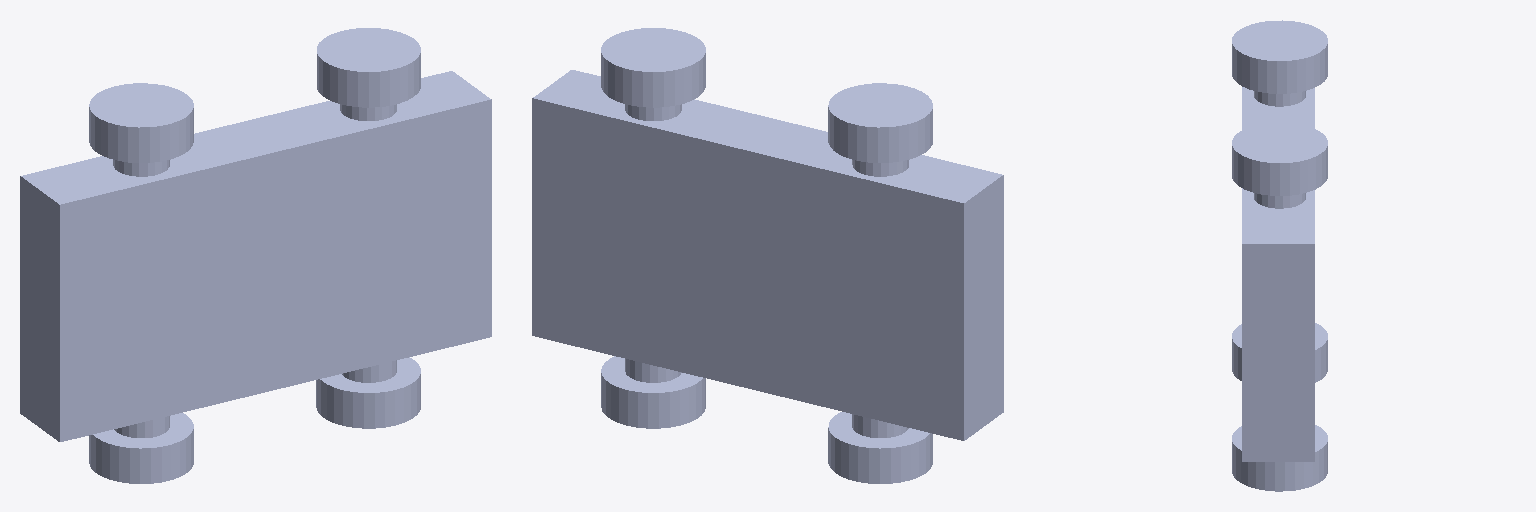
URDF robot description (mars_rover):
<?xml version="1.0" encoding="utf-8"?>
<!-- This URDF was automatically created by SolidWorks to URDF Exporter! Originally created by [author] ([email redacted]) 
     Commit Version: 1.6.0-1-g15f4949  Build Version: 1.6.7594.29634
     For more information, please see http://wiki.ros.org/sw_urdf_exporter -->
<robot
  name="mars_rover">
  <link
    name="base_link">
    <inertial>
      <origin
        xyz="0.294653236941306 0.609822590999722 0.767801018571493"
        rpy="0 0 0" />
      <mass
        value="64.9755690764331" />
      <inertia
        ixx="1.53438421488244"
        ixy="-4.44679015831895E-16"
        ixz="2.21495001419508E-16"
        iyy="5.30184354246095"
        iyz="-5.65363072363094E-17"
        izz="6.56210187060195" />
    </inertial>
    <visual>
      <origin
        xyz="0 0 0"
        rpy="0 0 0" />
      <geometry>
        <mesh
          filename="package://mars_rover/meshes/base_link.STL" />
      </geometry>
      <material
        name="">
        <color
          rgba="0.792156862745098 0.819607843137255 0.933333333333333 1" />
      </material>
    </visual>
    <collision>
      <origin
        xyz="0 0 0"
        rpy="0 0 0" />
      <geometry>
        <mesh
          filename="package://mars_rover/meshes/base_link.STL" />
      </geometry>
    </collision>
  </link>
  <link
    name="front_wheel_left">
    <inertial>
      <origin
        xyz="0 0 -0.14132"
        rpy="0 0 0" />
      <mass
        value="5.3936" />
      <inertia
        ixx="0.081019"
        ixy="-1.7347E-18"
        ixz="-6.5857E-18"
        iyy="0.081019"
        iyz="3.003E-19"
        izz="0.017214" />
    </inertial>
    <visual>
      <origin
        xyz="0 0 0"
        rpy="0 0 0" />
      <geometry>
        <mesh
          filename="package://mars_rover/meshes/front_wheel_left.STL" />
      </geometry>
      <material
        name="">
        <color
          rgba="0.79216 0.81961 0.93333 1" />
      </material>
    </visual>
    <collision>
      <origin
        xyz="0 0 0"
        rpy="0 0 0" />
      <geometry>
        <mesh
          filename="package://mars_rover/meshes/front_wheel_left.STL" />
      </geometry>
    </collision>
  </link>
  <joint
    name="front_wheel_left_joint"
    type="continuous">
    <origin
      xyz="0.040653 -0.76402 0.22882"
      rpy="3.1416 0 1.4439" />
    <parent
      link="base_link" />
    <child
      link="front_wheel_left" />
    <axis
      xyz="0 0 1" />
    <limit
      lower="0"
      upper="0"
      effort="0"
      velocity="0" />
  </joint>
  <link
    name="front_wheel_right">
    <inertial>
      <origin
        xyz="3.3307E-16 -8.3267E-17 0.23968"
        rpy="0 0 0" />
      <mass
        value="5.3936" />
      <inertia
        ixx="0.081019"
        ixy="-6.9389E-18"
        ixz="-7.6513E-17"
        iyy="0.081019"
        iyz="2.2799E-17"
        izz="0.017214" />
    </inertial>
    <visual>
      <origin
        xyz="0 0 0"
        rpy="0 0 0" />
      <geometry>
        <mesh
          filename="package://mars_rover/meshes/front_wheel_right.STL" />
      </geometry>
      <material
        name="">
        <color
          rgba="0.79216 0.81961 0.93333 1" />
      </material>
    </visual>
    <collision>
      <origin
        xyz="0 0 0"
        rpy="0 0 0" />
      <geometry>
        <mesh
          filename="package://mars_rover/meshes/front_wheel_right.STL" />
      </geometry>
    </collision>
  </link>
  <joint
    name="front_wheel_right_joint"
    type="continuous">
    <origin
      xyz="0.040653 -0.76402 0.60982"
      rpy="0 0 1.8307" />
    <parent
      link="base_link" />
    <child
      link="front_wheel_right" />
    <axis
      xyz="0 0 1" />
    <limit
      lower="0"
      upper="0"
      effort="0"
      velocity="0" />
  </joint>
  <link
    name="rear_wheel_left">
    <inertial>
      <origin
        xyz="9.992E-15 1.8874E-15 -0.14132"
        rpy="0 0 0" />
      <mass
        value="5.3936" />
      <inertia
        ixx="0.081019"
        ixy="5.2042E-18"
        ixz="-3.6408E-16"
        iyy="0.081019"
        iyz="-3.6969E-16"
        izz="0.017214" />
    </inertial>
    <visual>
      <origin
        xyz="0 0 0"
        rpy="0 0 0" />
      <geometry>
        <mesh
          filename="package://mars_rover/meshes/rear_wheel_left.STL" />
      </geometry>
      <material
        name="">
        <color
          rgba="0.79216 0.81961 0.93333 1" />
      </material>
    </visual>
    <collision>
      <origin
        xyz="0 0 0"
        rpy="0 0 0" />
      <geometry>
        <mesh
          filename="package://mars_rover/meshes/rear_wheel_left.STL" />
      </geometry>
    </collision>
  </link>
  <joint
    name="rear_wheel_left_joint"
    type="continuous">
    <origin
      xyz="0.54865 -0.76402 0.22882"
      rpy="-3.1416 0 -0.30763" />
    <parent
      link="base_link" />
    <child
      link="rear_wheel_left" />
    <axis
      xyz="0 0 1" />
    <limit
      lower="0"
      upper="0"
      effort="0"
      velocity="0" />
  </joint>
  <link
    name="rear_wheel_right">
    <inertial>
      <origin
        xyz="-2.1427E-14 -2.1316E-14 0.23968"
        rpy="0 0 0" />
      <mass
        value="5.3936" />
      <inertia
        ixx="0.081019"
        ixy="0"
        ixz="5.6667E-15"
        iyy="0.081019"
        iyz="5.6654E-15"
        izz="0.017214" />
    </inertial>
    <visual>
      <origin
        xyz="0 0 0"
        rpy="0 0 0" />
      <geometry>
        <mesh
          filename="package://mars_rover/meshes/rear_wheel_right.STL" />
      </geometry>
      <material
        name="">
        <color
          rgba="0.79216 0.81961 0.93333 1" />
      </material>
    </visual>
    <collision>
      <origin
        xyz="0 0 0"
        rpy="0 0 0" />
      <geometry>
        <mesh
          filename="package://mars_rover/meshes/rear_wheel_right.STL" />
      </geometry>
    </collision>
  </link>
  <joint
    name="rear_wheel_right_joint"
    type="continuous">
    <origin
      xyz="0.54865 -0.76402 0.60982"
      rpy="0 0 -1.8864" />
    <parent
      link="base_link" />
    <child
      link="rear_wheel_right" />
    <axis
      xyz="0 0 1" />
    <limit
      lower="0"
      upper="0"
      effort="0"
      velocity="0" />
  </joint>
 
  <transmission name="trans_front_wheel_left">
  <type>transmission_interface/SimpleTransmission</type>
  <joint name="front_wheel_left_joint">
  <hardwareInterface>VelocityJointInterface</hardwareInterface>
  </joint>
  <actuator name="front_wheel_left_motor">
  <hardwareInterface>VelocityJointInterface</hardwareInterface>
  </actuator>
  </transmission>

  <transmission name="trans_front_wheel_right">
  <type>transmission_interface/SimpleTransmission</type>
  <joint name="front_wheel_right_joint">
  <hardwareInterface>VelocityJointInterface</hardwareInterface>
  </joint>
  <actuator name="front_wheel_right_motor">
  <hardwareInterface>VelocityJointInterface</hardwareInterface>
  </actuator>
  </transmission>

  <transmission name="trans_rear_wheel_left">
  <type>transmission_interface/SimpleTransmission</type>
  <joint name="rear_wheel_left_joint">
  <hardwareInterface>VelocityJointInterface</hardwareInterface>
  </joint>
  <actuator name="rear_wheel_rleft_motor">
  <hardwareInterface>VelocityJointInterface</hardwareInterface>
  </actuator>
  </transmission>

  <transmission name="trans_rear_wheel_right">
  <type>transmission_interface/SimpleTransmission</type>
  <joint name="rear_wheel_right_joint">
  <hardwareInterface>VelocityJointInterface</hardwareInterface>
  </joint>
  <actuator name="rear_wheel_right_motor">
  <hardwareInterface>VelocityJointInterface</hardwareInterface>
  </actuator>
  </transmission>
</robot>

--- What the picture shows (computed from the rendered views, not written in the file) ---
3 views of the same robot in one strip: view 1: azimuth 30°, elevation 25°; view 2: azimuth 150°, elevation 25°; view 3: azimuth 270°, elevation 25° (orthographic).
Robot: mars_rover — 5 links, 4 joints (4 continuous); root link base_link; default pose: every joint at zero.
Links seen in each view (by area): view 1: base_link, front_wheel_right, rear_wheel_right, front_wheel_left, rear_wheel_left; view 2: base_link, front_wheel_right, rear_wheel_right, rear_wheel_left, front_wheel_left; view 3: base_link, front_wheel_right, rear_wheel_right, rear_wheel_left, front_wheel_left.
Link boxes in pixels (bbox=[...]): base_link: bbox=[20, 71, 491, 441]; front_wheel_right: bbox=[89, 83, 193, 176]; rear_wheel_right: bbox=[317, 28, 420, 120]; front_wheel_left: bbox=[89, 413, 193, 483]; rear_wheel_left: bbox=[316, 357, 420, 428]; base_link: bbox=[532, 70, 1003, 440]; front_wheel_right: bbox=[828, 83, 932, 176]; rear_wheel_right: bbox=[601, 28, 705, 120]; rear_wheel_left: bbox=[601, 356, 705, 428]; front_wheel_left: bbox=[828, 412, 932, 483]; base_link: bbox=[1242, 87, 1314, 461]; front_wheel_right: bbox=[1232, 20, 1327, 106]; rear_wheel_right: bbox=[1232, 123, 1327, 208]; rear_wheel_left: bbox=[1232, 425, 1327, 491]; front_wheel_left: bbox=[1232, 323, 1327, 382].
Bounding box of the posed robot: 0.9652 × 0.2032 × 0.762 m (x, y, z).
5 mesh visuals loaded from 5 distinct referenced files (5 binary STL).